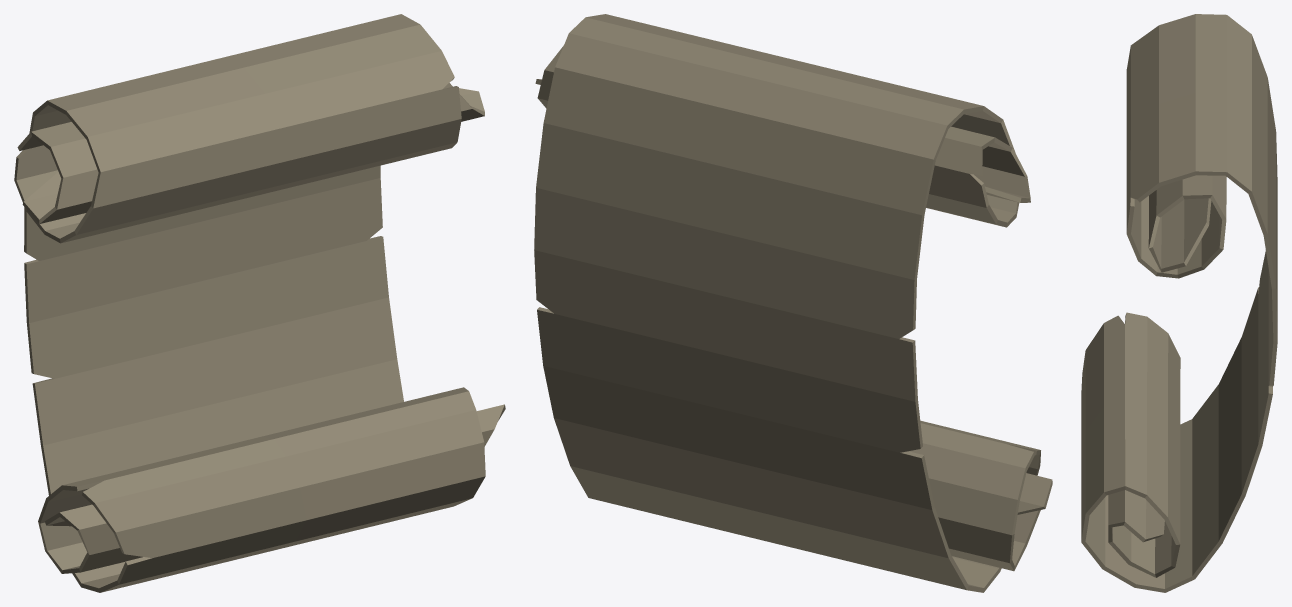
File: Parchment.glb
3 views of the same model, side by side, from view 1: azimuth 30°, elevation 25°; view 2: azimuth 150°, elevation 25°; view 3: azimuth 270°, elevation 25° (orthographic). The views are drawn at different scales.
Parts seen in each view (by area): view 1: Parchment_Plane; view 2: Parchment_Plane; view 3: Parchment_Plane.
Part boxes in pixels (left/top/right/bottom): Parchment_Plane: left=14, top=14, right=505, bottom=592; Parchment_Plane: left=534, top=14, right=1052, bottom=592; Parchment_Plane: left=1081, top=14, right=1277, bottom=592.
Bounding box in the file's own units: 0.922 × 0.8995 × 0.3792.
